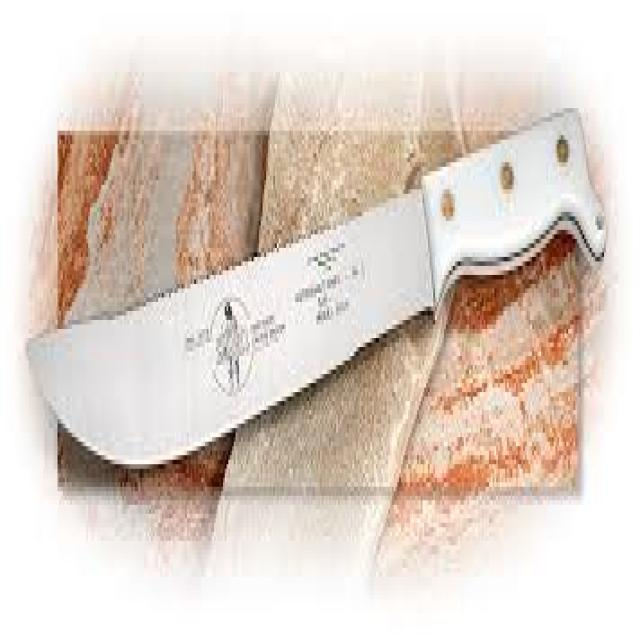knives: (25, 141, 449, 470)
